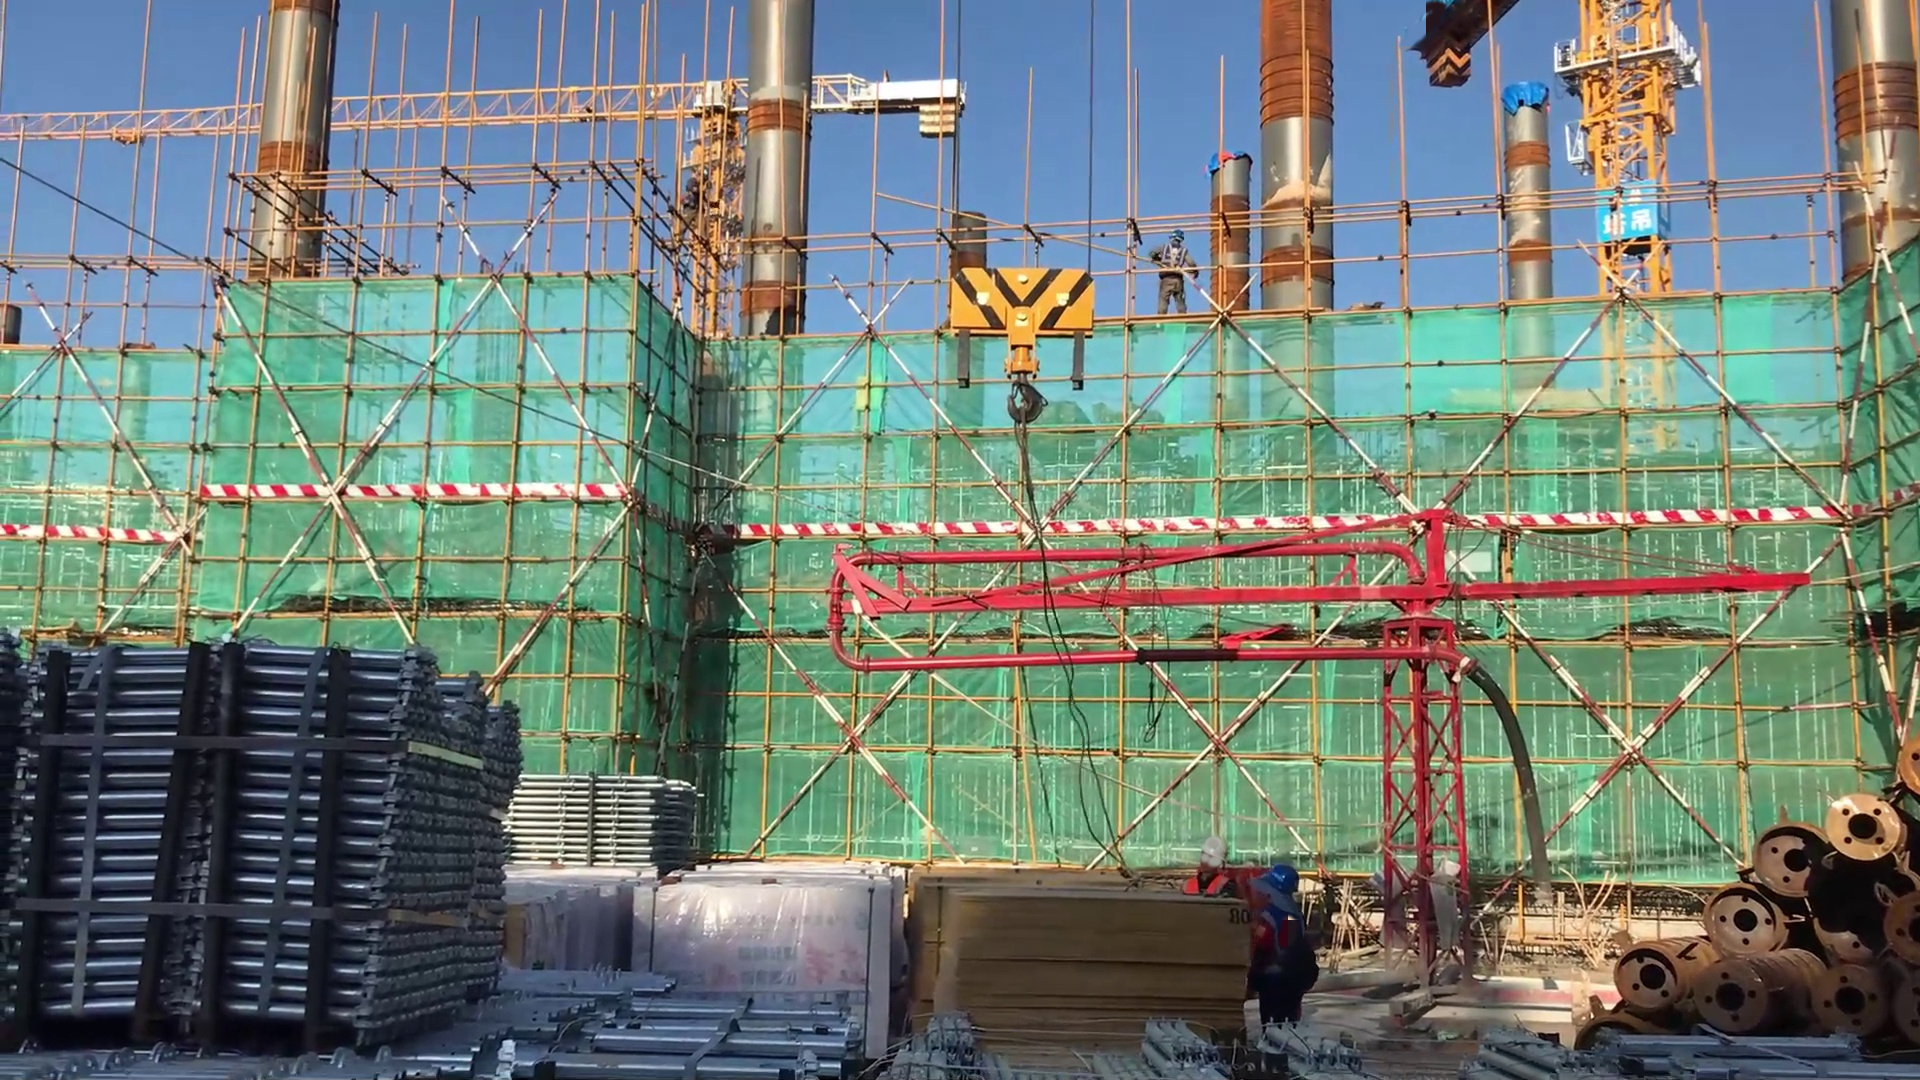board: (908, 868, 1252, 1048)
helmet: (1264, 865, 1301, 899), (1195, 832, 1230, 865), (1168, 225, 1187, 247)
hook: (944, 259, 1105, 448)
person: (1247, 858, 1318, 1039), (1111, 832, 1245, 911), (1148, 224, 1203, 326)
scaffold: (6, 624, 529, 1038), (1, 963, 662, 1079), (526, 969, 872, 1080), (876, 1003, 1256, 1078), (1465, 1021, 1853, 1080), (512, 773, 693, 871)
slogan: (1602, 185, 1663, 249)
vest: (1253, 907, 1317, 1006), (1181, 872, 1241, 904), (1158, 243, 1193, 279)
